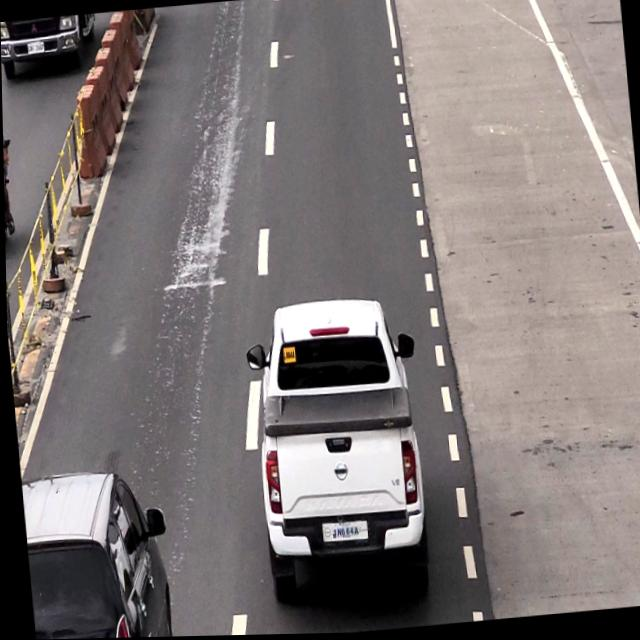Car: (245, 297, 431, 599), (18, 466, 173, 640)
License-Plate: (322, 520, 365, 546)
